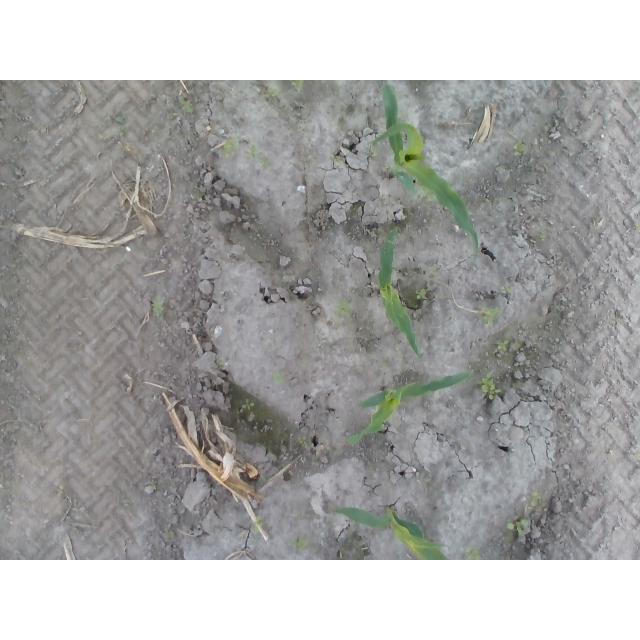Maize: (369, 83, 479, 276), (346, 369, 470, 445), (328, 504, 452, 560), (378, 227, 424, 359)
Weeds: (480, 370, 500, 399), (246, 144, 268, 166), (482, 305, 502, 327), (287, 535, 309, 553), (335, 300, 354, 320), (101, 125, 127, 139), (222, 136, 239, 156), (507, 520, 529, 534), (529, 490, 545, 508), (512, 140, 529, 156), (151, 297, 165, 316), (177, 99, 193, 115), (251, 516, 266, 533), (263, 86, 279, 101), (271, 372, 285, 389), (463, 548, 482, 560), (162, 530, 179, 543), (330, 153, 347, 166), (495, 340, 509, 355), (500, 281, 514, 295), (242, 399, 256, 413), (415, 288, 429, 301), (429, 265, 444, 277), (609, 317, 625, 328), (296, 435, 308, 449), (145, 478, 156, 492), (291, 81, 305, 92), (112, 116, 126, 125), (370, 143, 379, 157), (120, 499, 131, 510), (56, 484, 64, 497), (216, 360, 225, 370), (291, 510, 301, 518), (539, 231, 546, 241), (267, 344, 274, 353), (635, 223, 640, 233)
